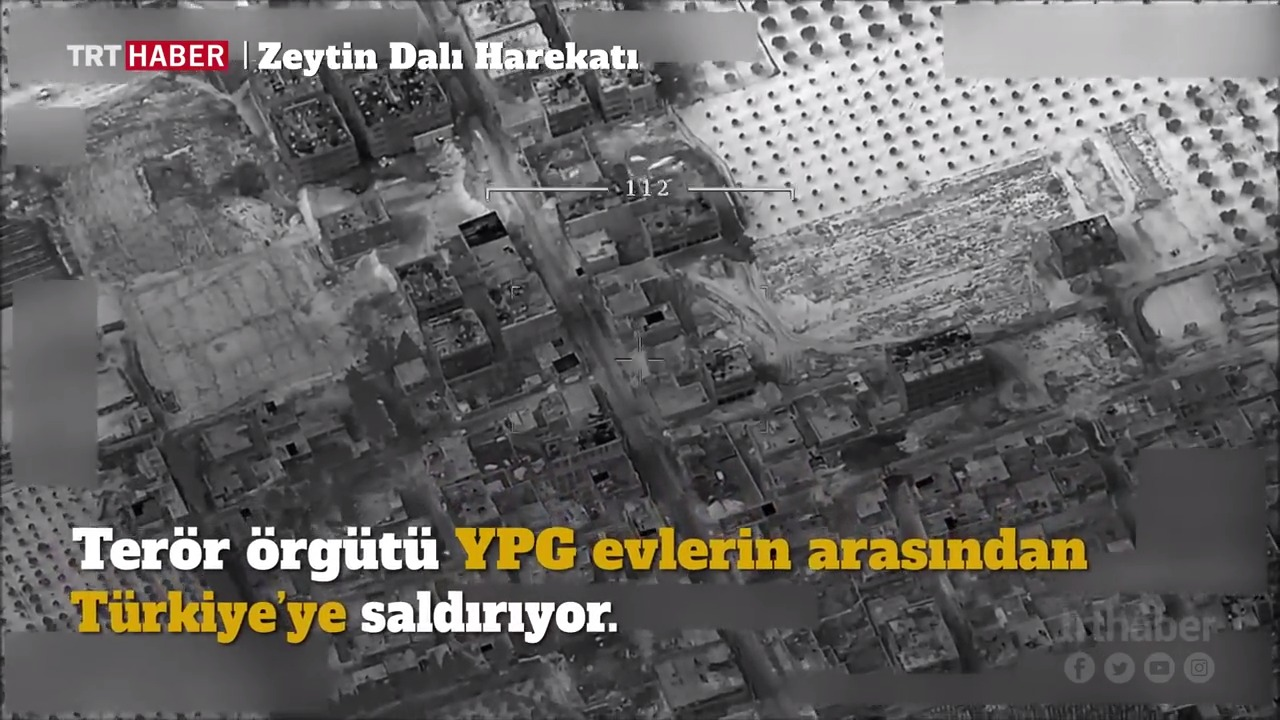bina: (543, 407, 645, 503), (887, 330, 1003, 411), (639, 649, 767, 718), (357, 63, 451, 151), (510, 127, 609, 208), (873, 604, 984, 667), (494, 267, 566, 360), (1041, 210, 1126, 285), (279, 91, 350, 175), (315, 182, 394, 257), (460, 197, 524, 281), (592, 62, 684, 112), (643, 201, 725, 255), (388, 262, 462, 315), (423, 312, 495, 366), (701, 344, 764, 400), (744, 403, 800, 464), (524, 68, 586, 122), (809, 389, 865, 448), (616, 295, 686, 337), (572, 230, 623, 271)
